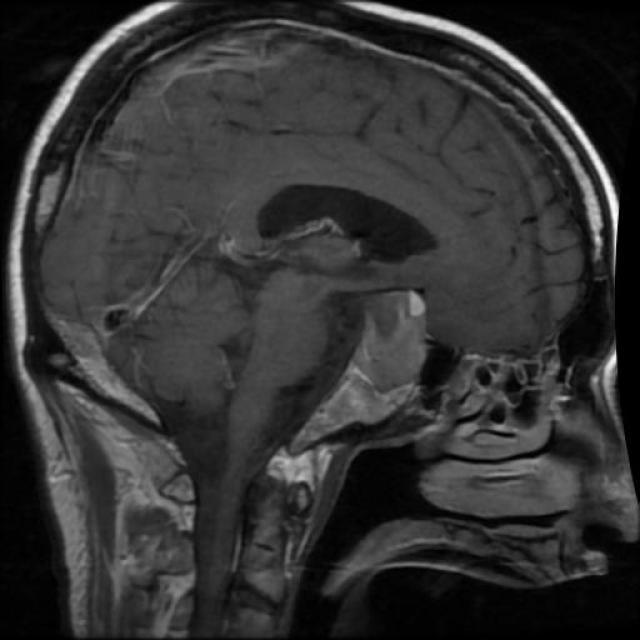pituitary: (318, 275, 431, 407)
